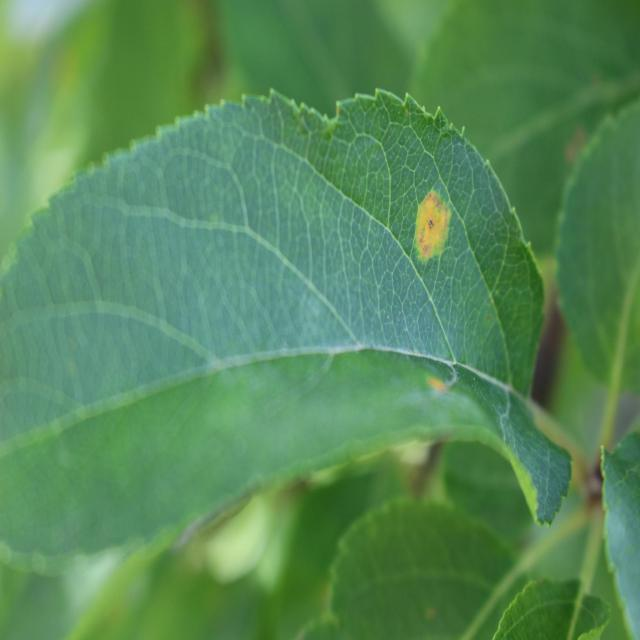Rust: (409, 167, 455, 279), (419, 356, 454, 414)
